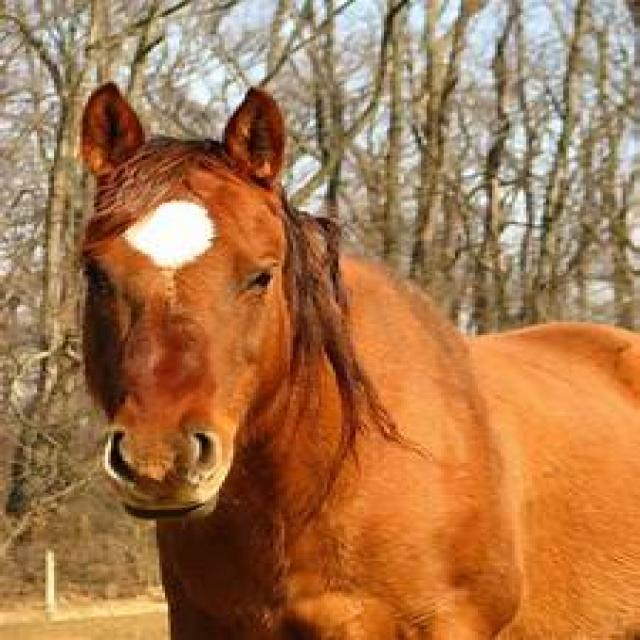horse: (82, 85, 638, 639)
